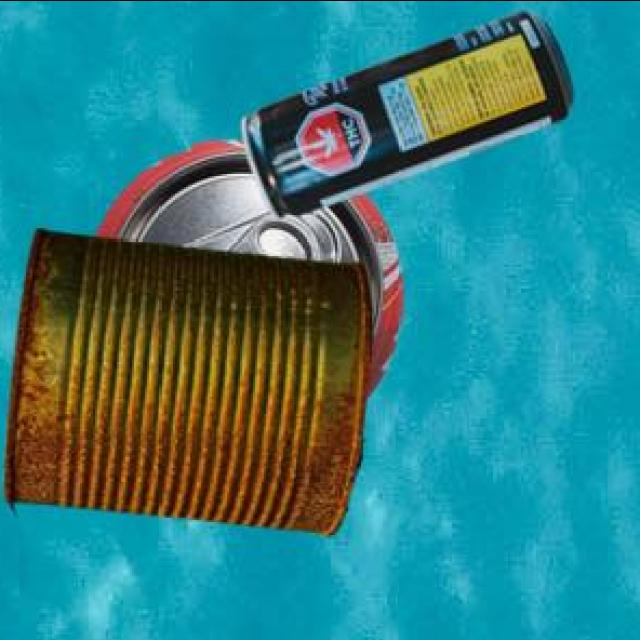logam: (8, 224, 375, 531), (98, 135, 405, 395), (245, 8, 576, 213)
